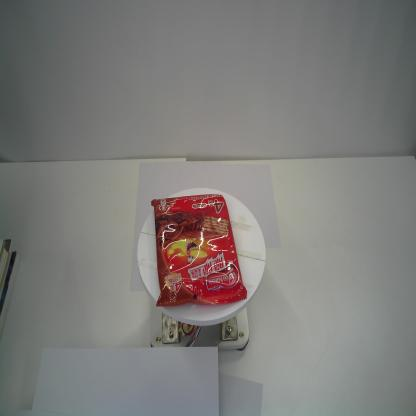Dessert: (151, 193, 247, 308)
